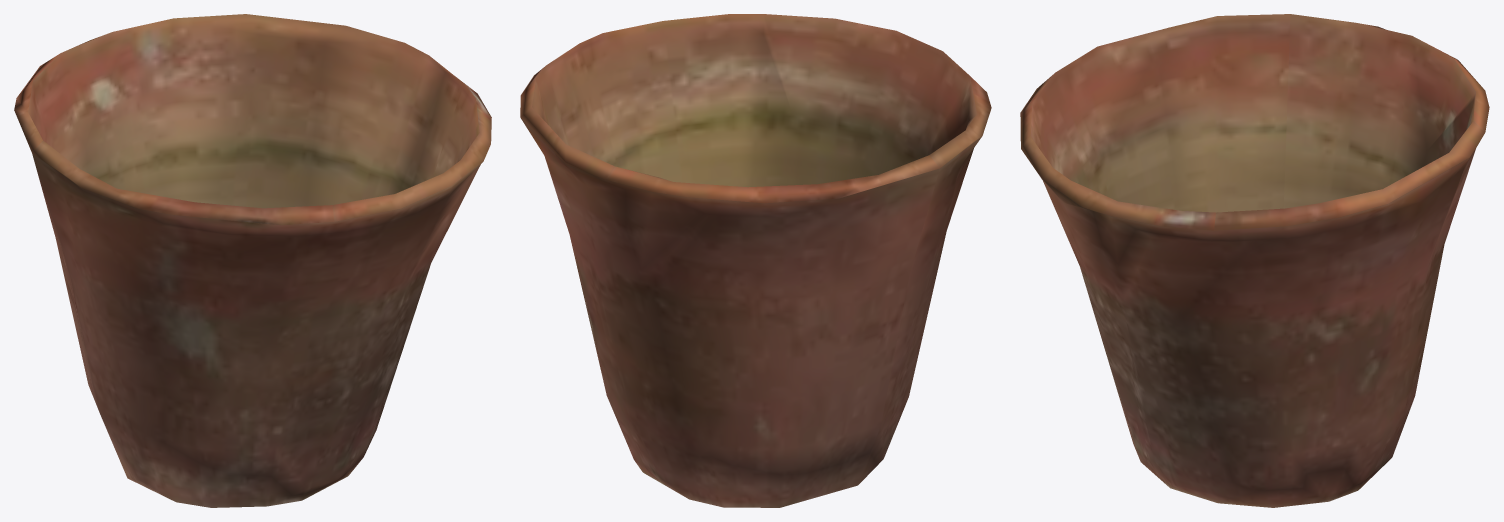
The model's file is claypot.glb.
3 renders of one model, left to right at view 1: azimuth 30°, elevation 25°; view 2: azimuth 150°, elevation 25°; view 3: azimuth 270°, elevation 25°, orthographic.
Visible parts, largest first — view 1: planter_pot_clay; view 2: planter_pot_clay; view 3: planter_pot_clay.
Boxes of the visible parts, <box> form: planter_pot_clay: <box>14,14,491,507</box>; planter_pot_clay: <box>520,14,991,507</box>; planter_pot_clay: <box>1020,14,1489,507</box>.
Bounding box in the file's own units: 0.2637 × 0.2218 × 0.2616.
1 material, 1 textured.
